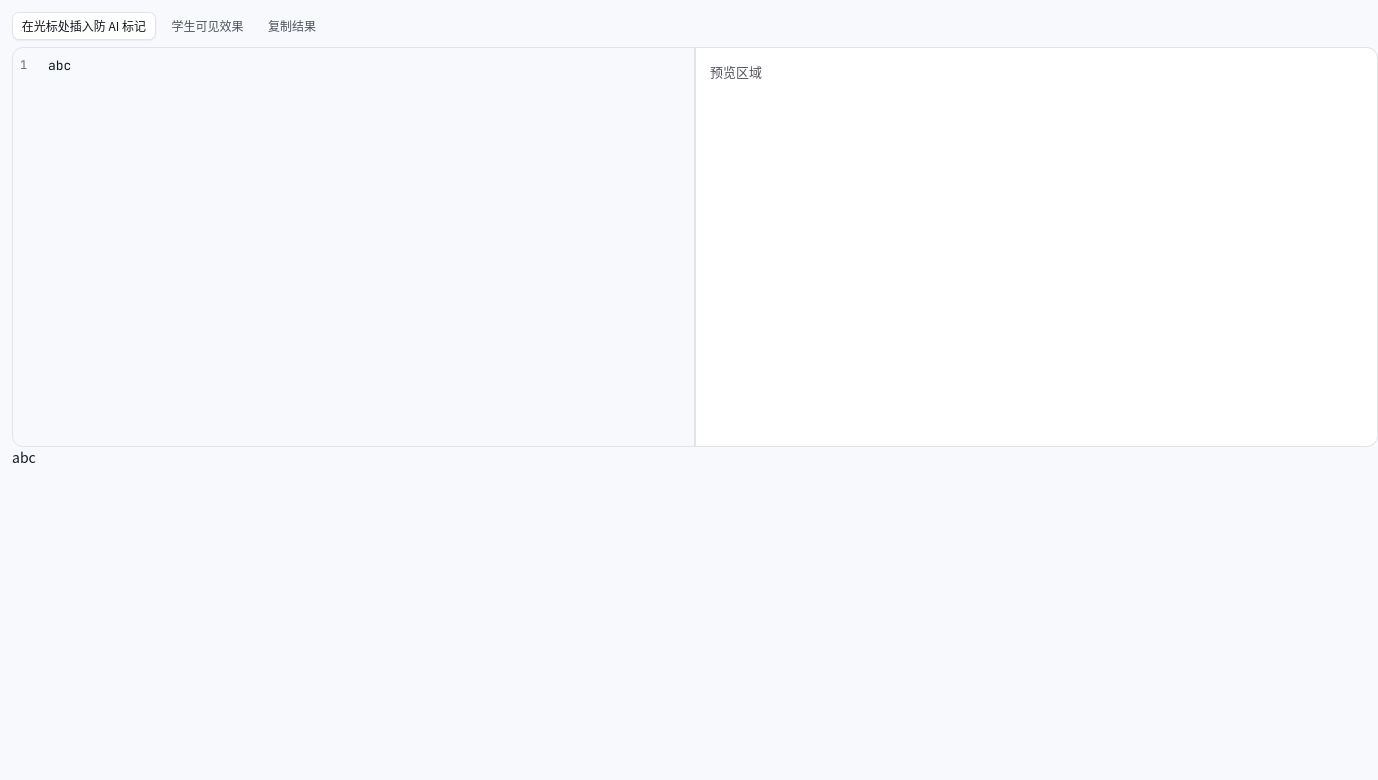
anti AI marker author controls › shows an author student preview without the injected text
Click the button "在光标处插入防 AI 标记". click: (84, 26)
box: [12,12,156,40]
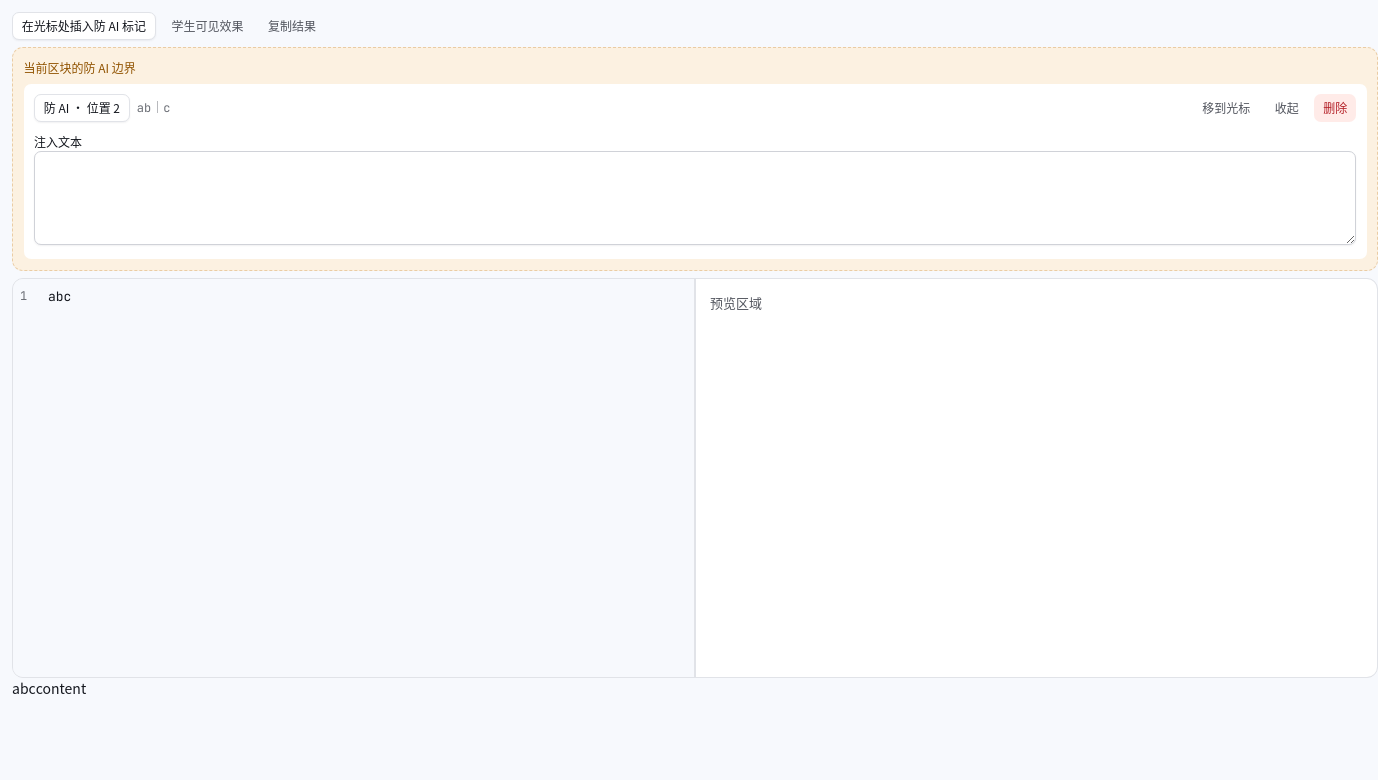
Type "不可见提示" into the text box labelled "注入文本". click: (695, 198)
box: [34,150,1356,244]
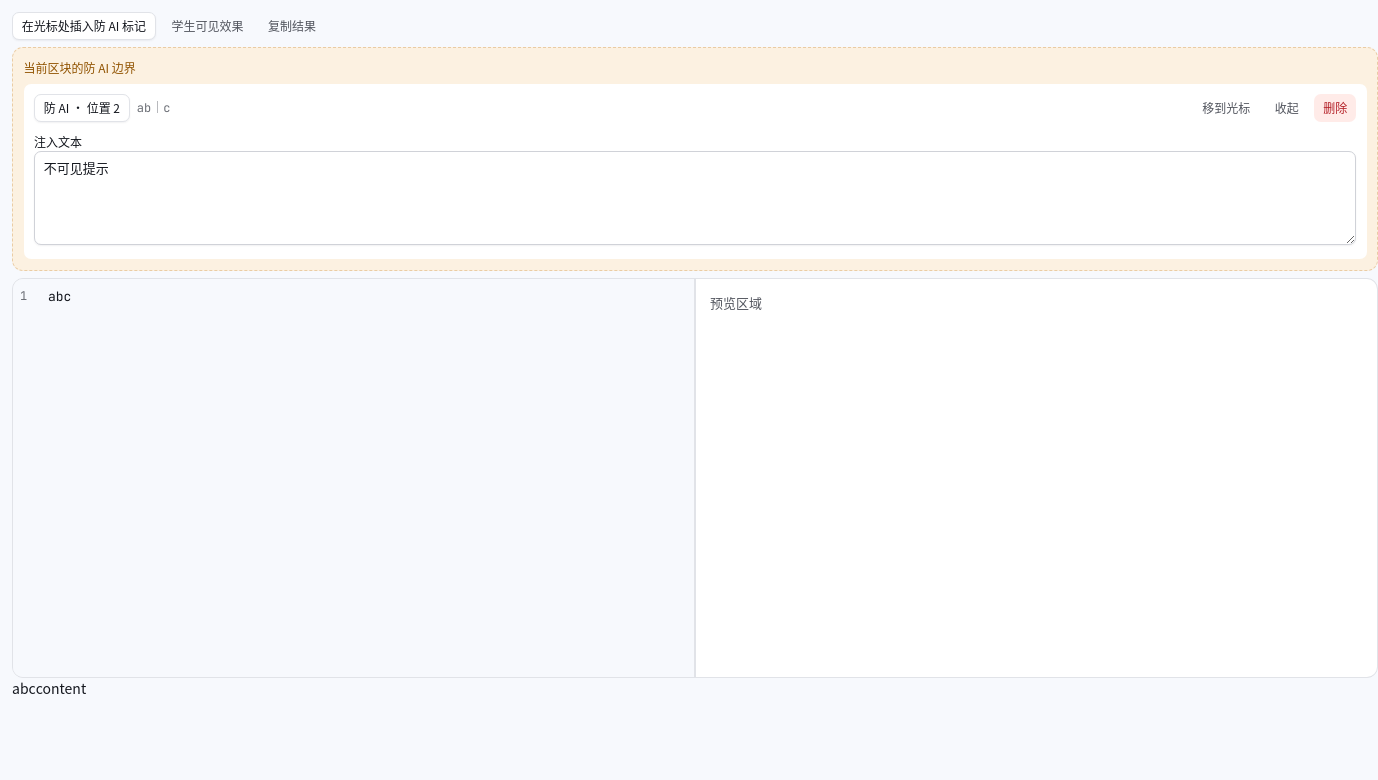
Click the button "收起". click: (1287, 108)
box: [1266,94,1308,122]
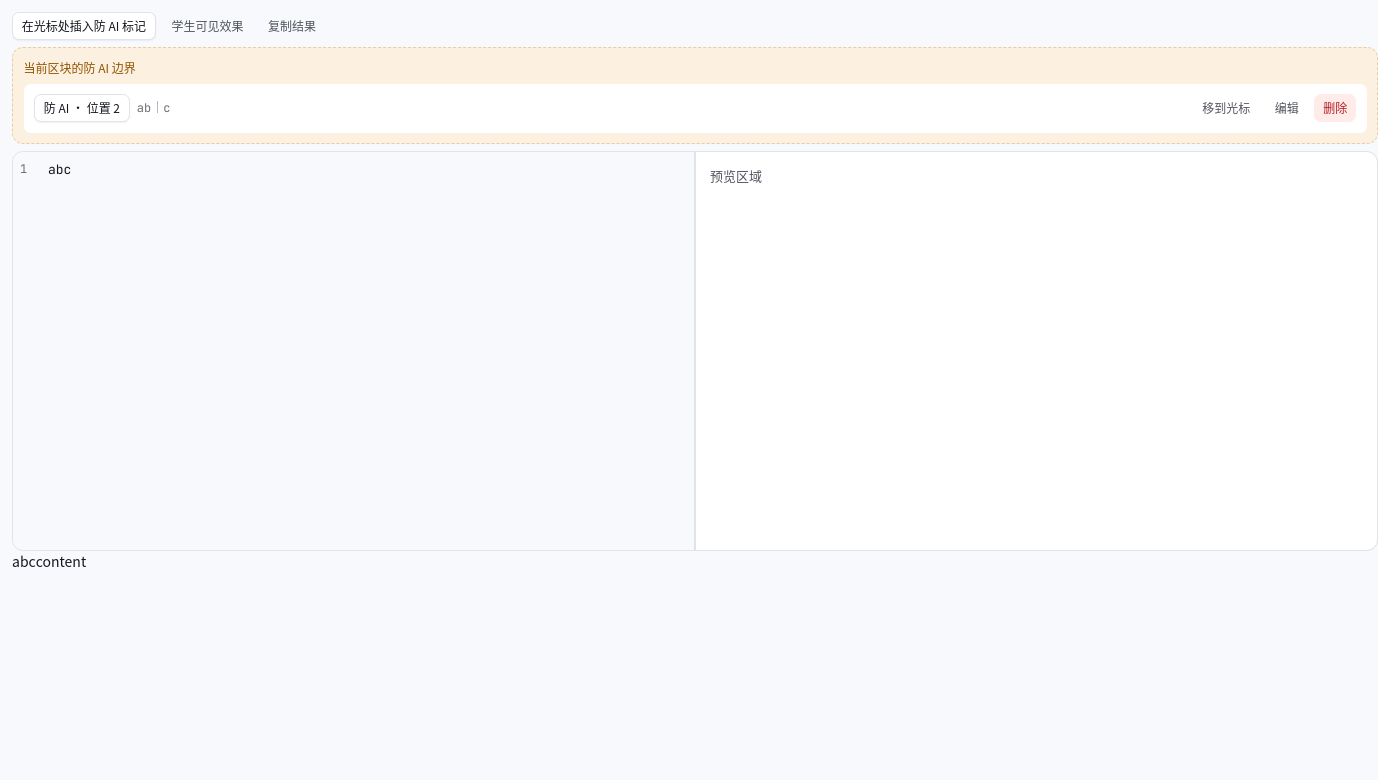
Click the button "学生可见效果". click: (207, 26)
box: [163,12,252,40]
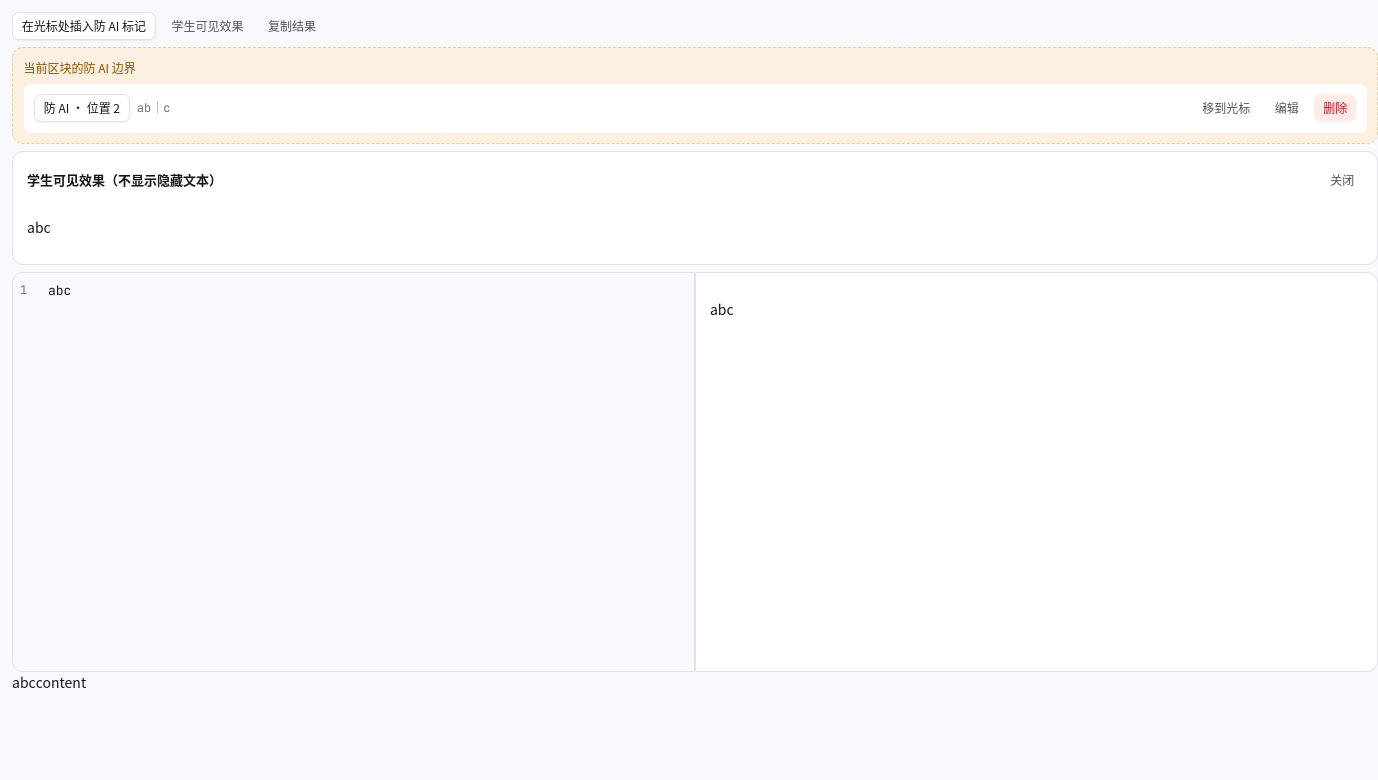
Expected: the field labelled "学生可见效果" does not show "不可见提示"
Result: the text "abc" below "学生可见效果（不显示隐藏文本）" is shown at [27,217,51,237]
